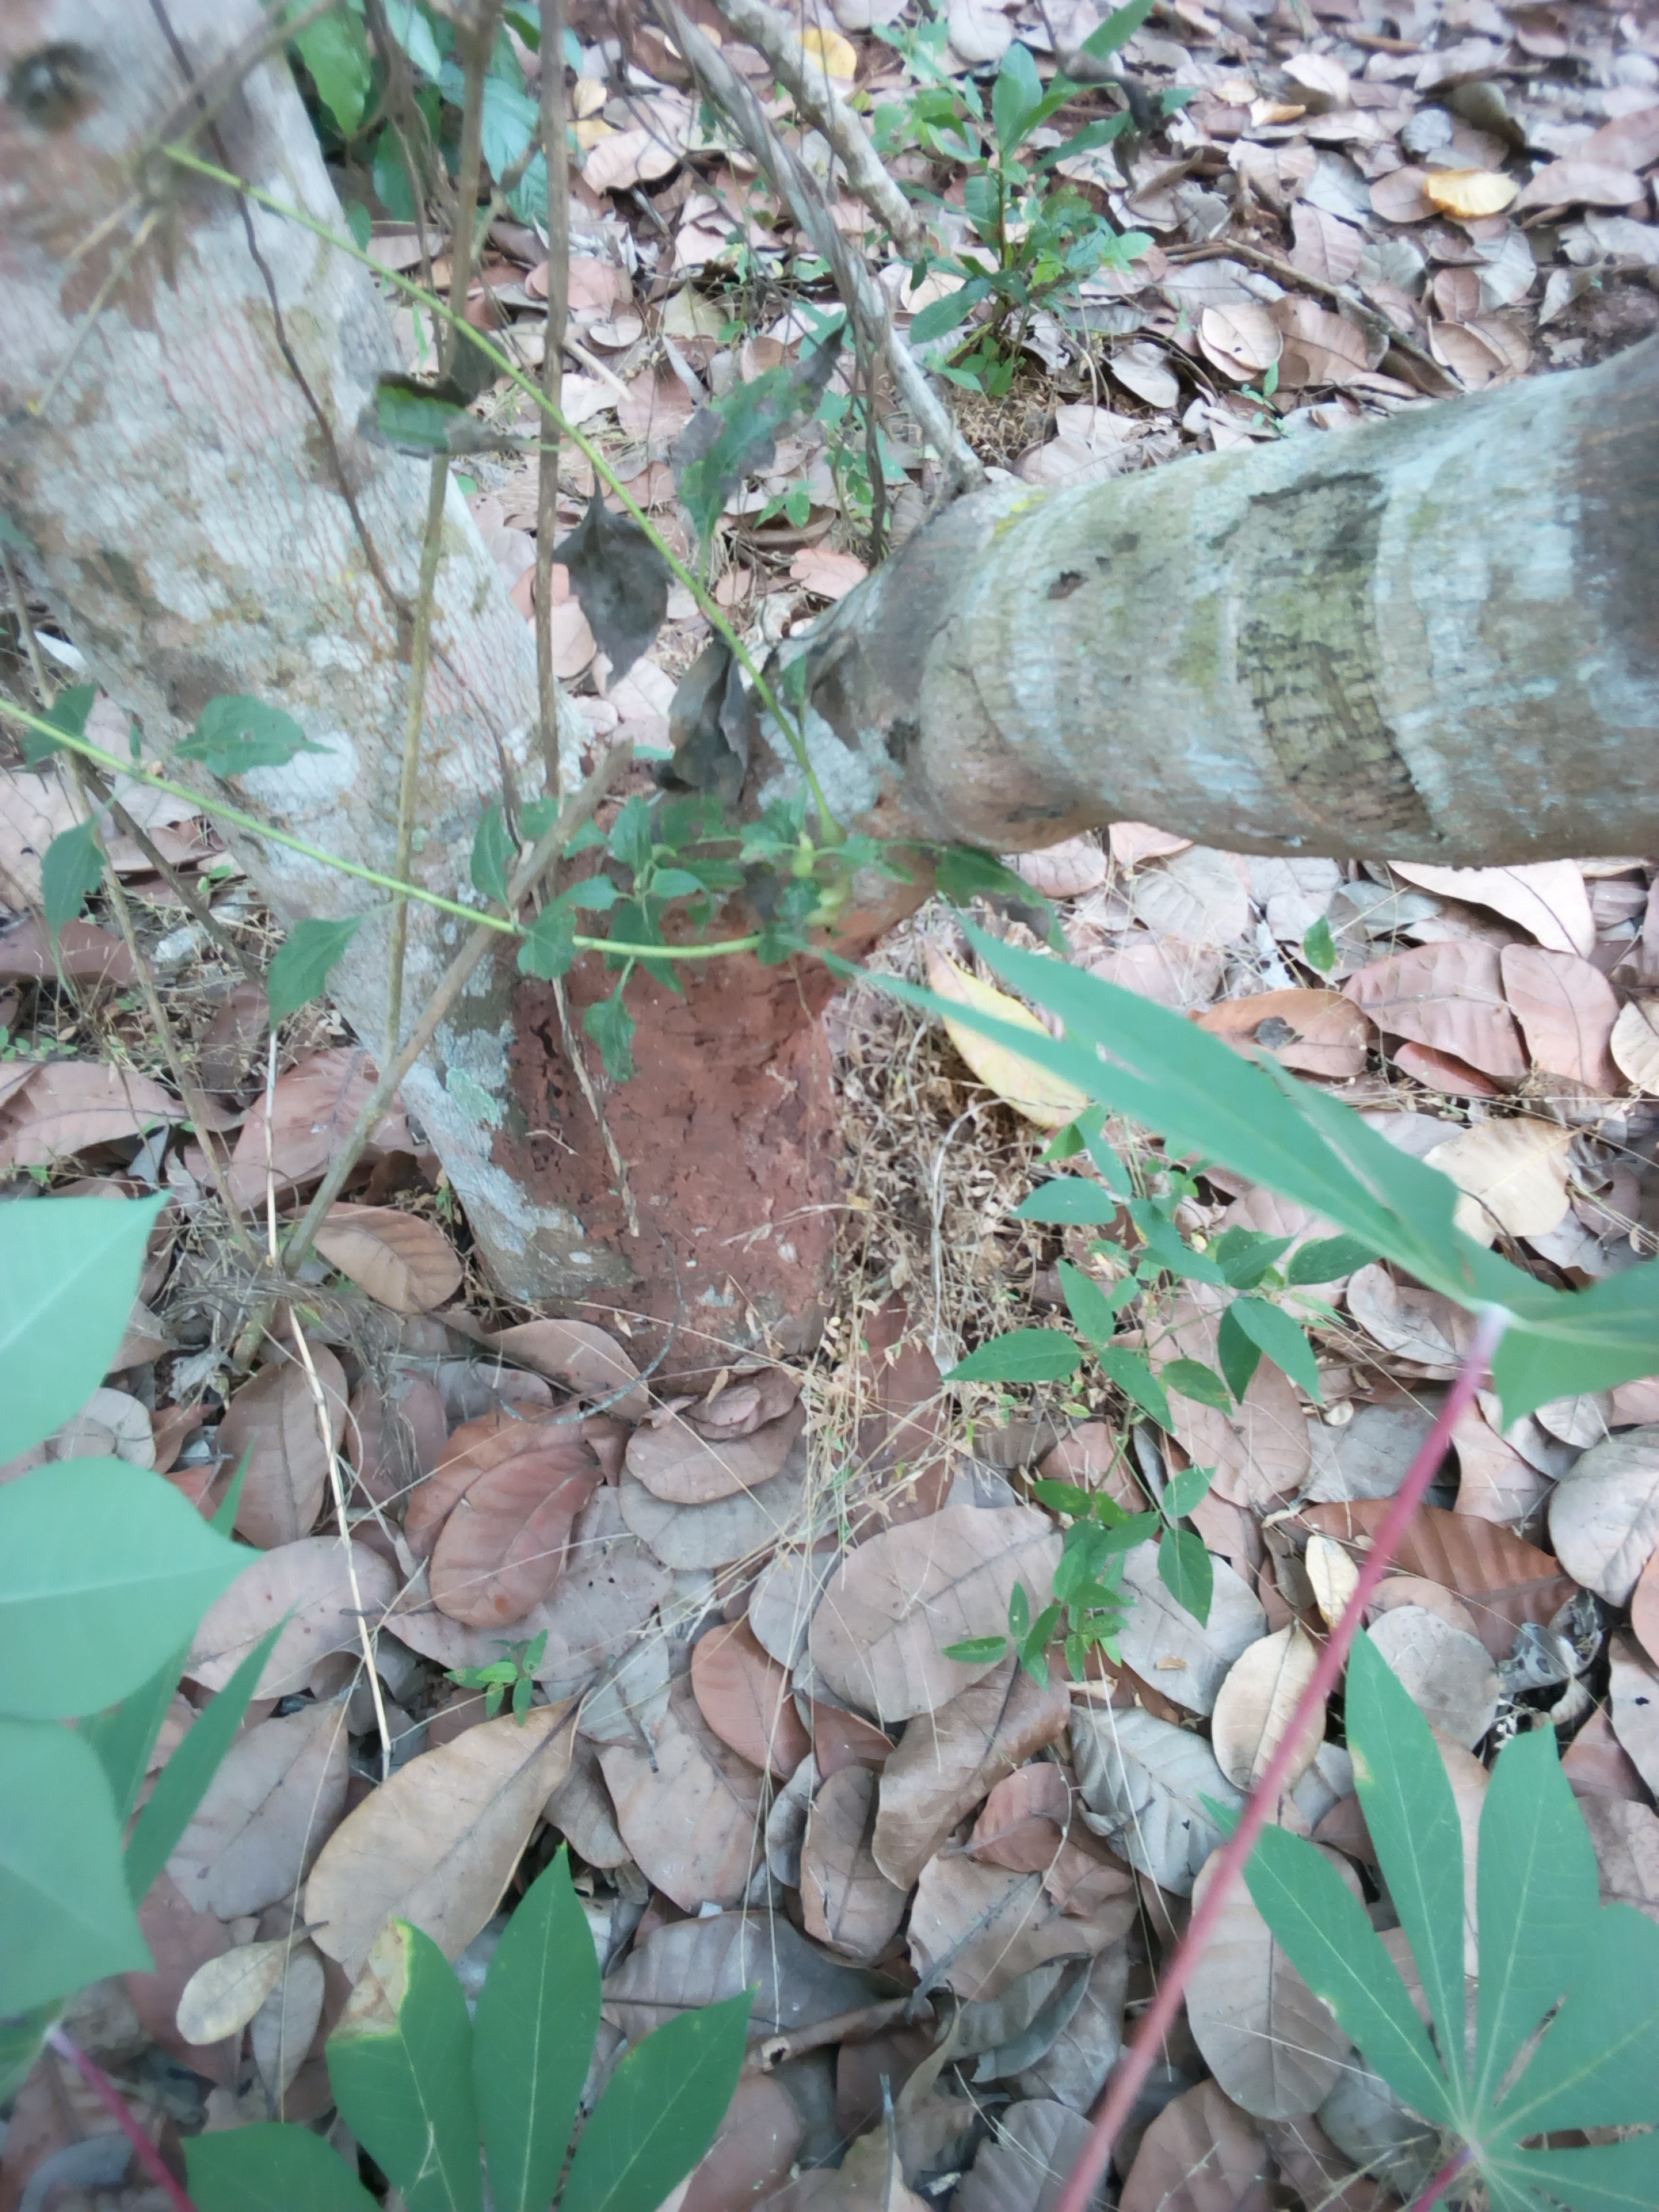Termites: (504, 913, 880, 1303)
